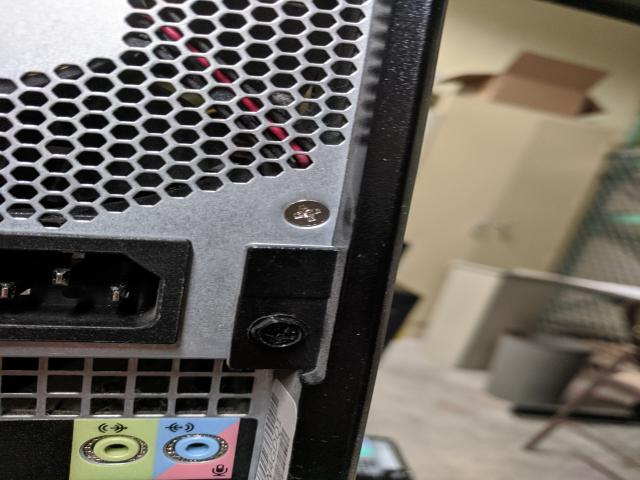CRS: (247, 314, 308, 352), (285, 200, 329, 229)
